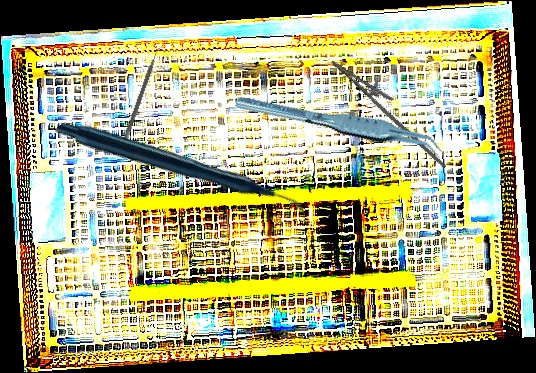Handpiece: (52, 36, 309, 305)
Needle Holder: (319, 50, 465, 169)
Spatula Surgical: (117, 43, 166, 157)
Tissue Forceps: (234, 71, 446, 178)
